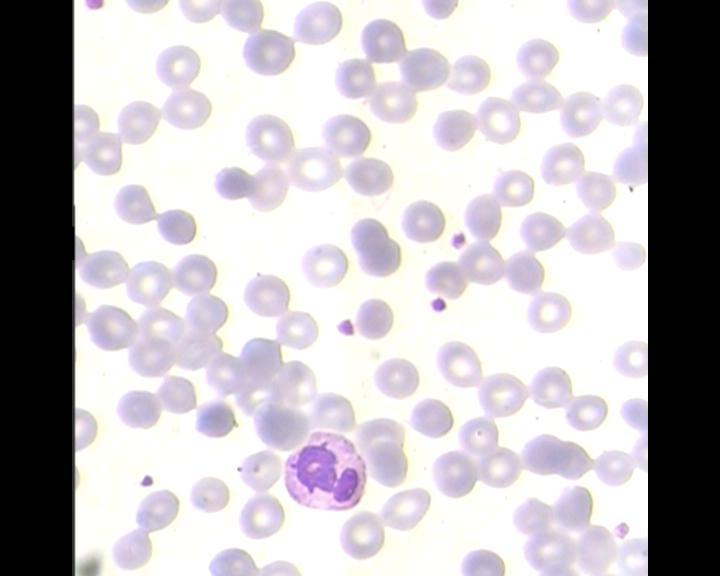neut: (284, 429, 369, 514)
